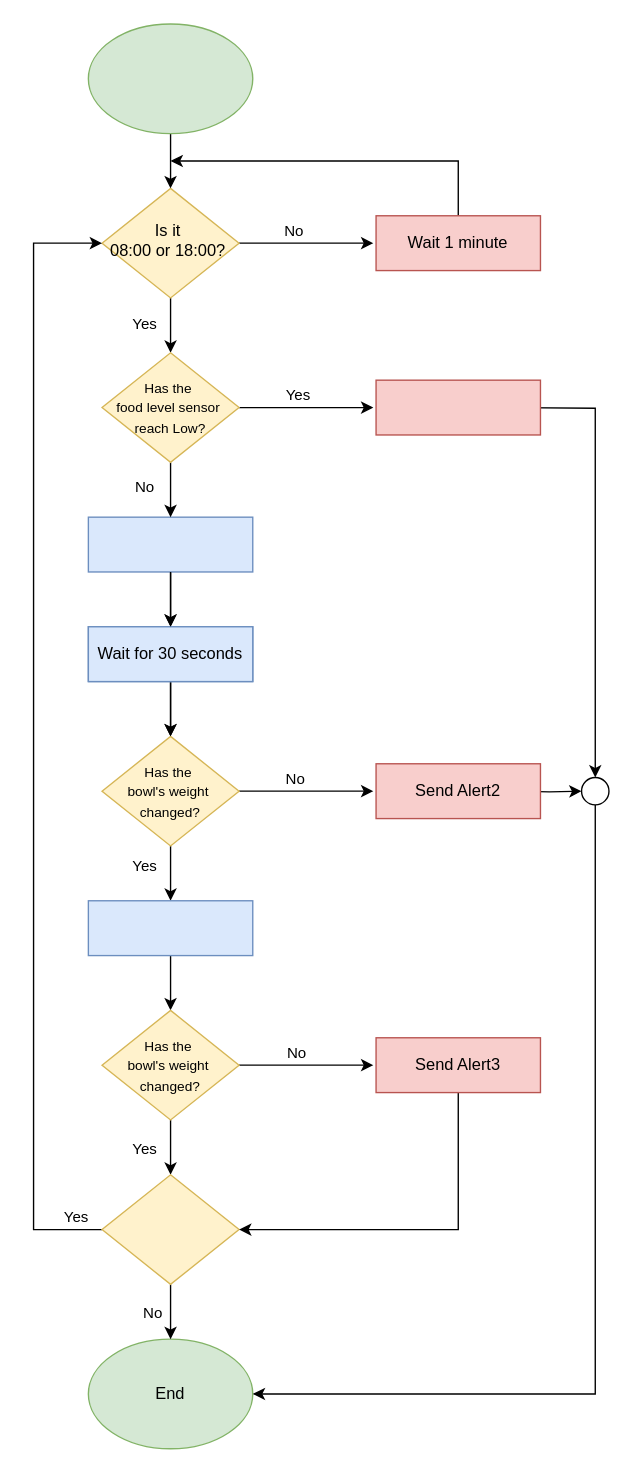
This 633x1473 diagram has some shape labels left out. Each missing label, with the centre of its shape:
"Send Alert1" belongs at (457,407).
"Start" belongs at (170,78).
"System still ON?" belongs at (170,1228).
"Turn ON rotate servo" belongs at (170,544).
"Wait 10 minutes" belongs at (170,927).
